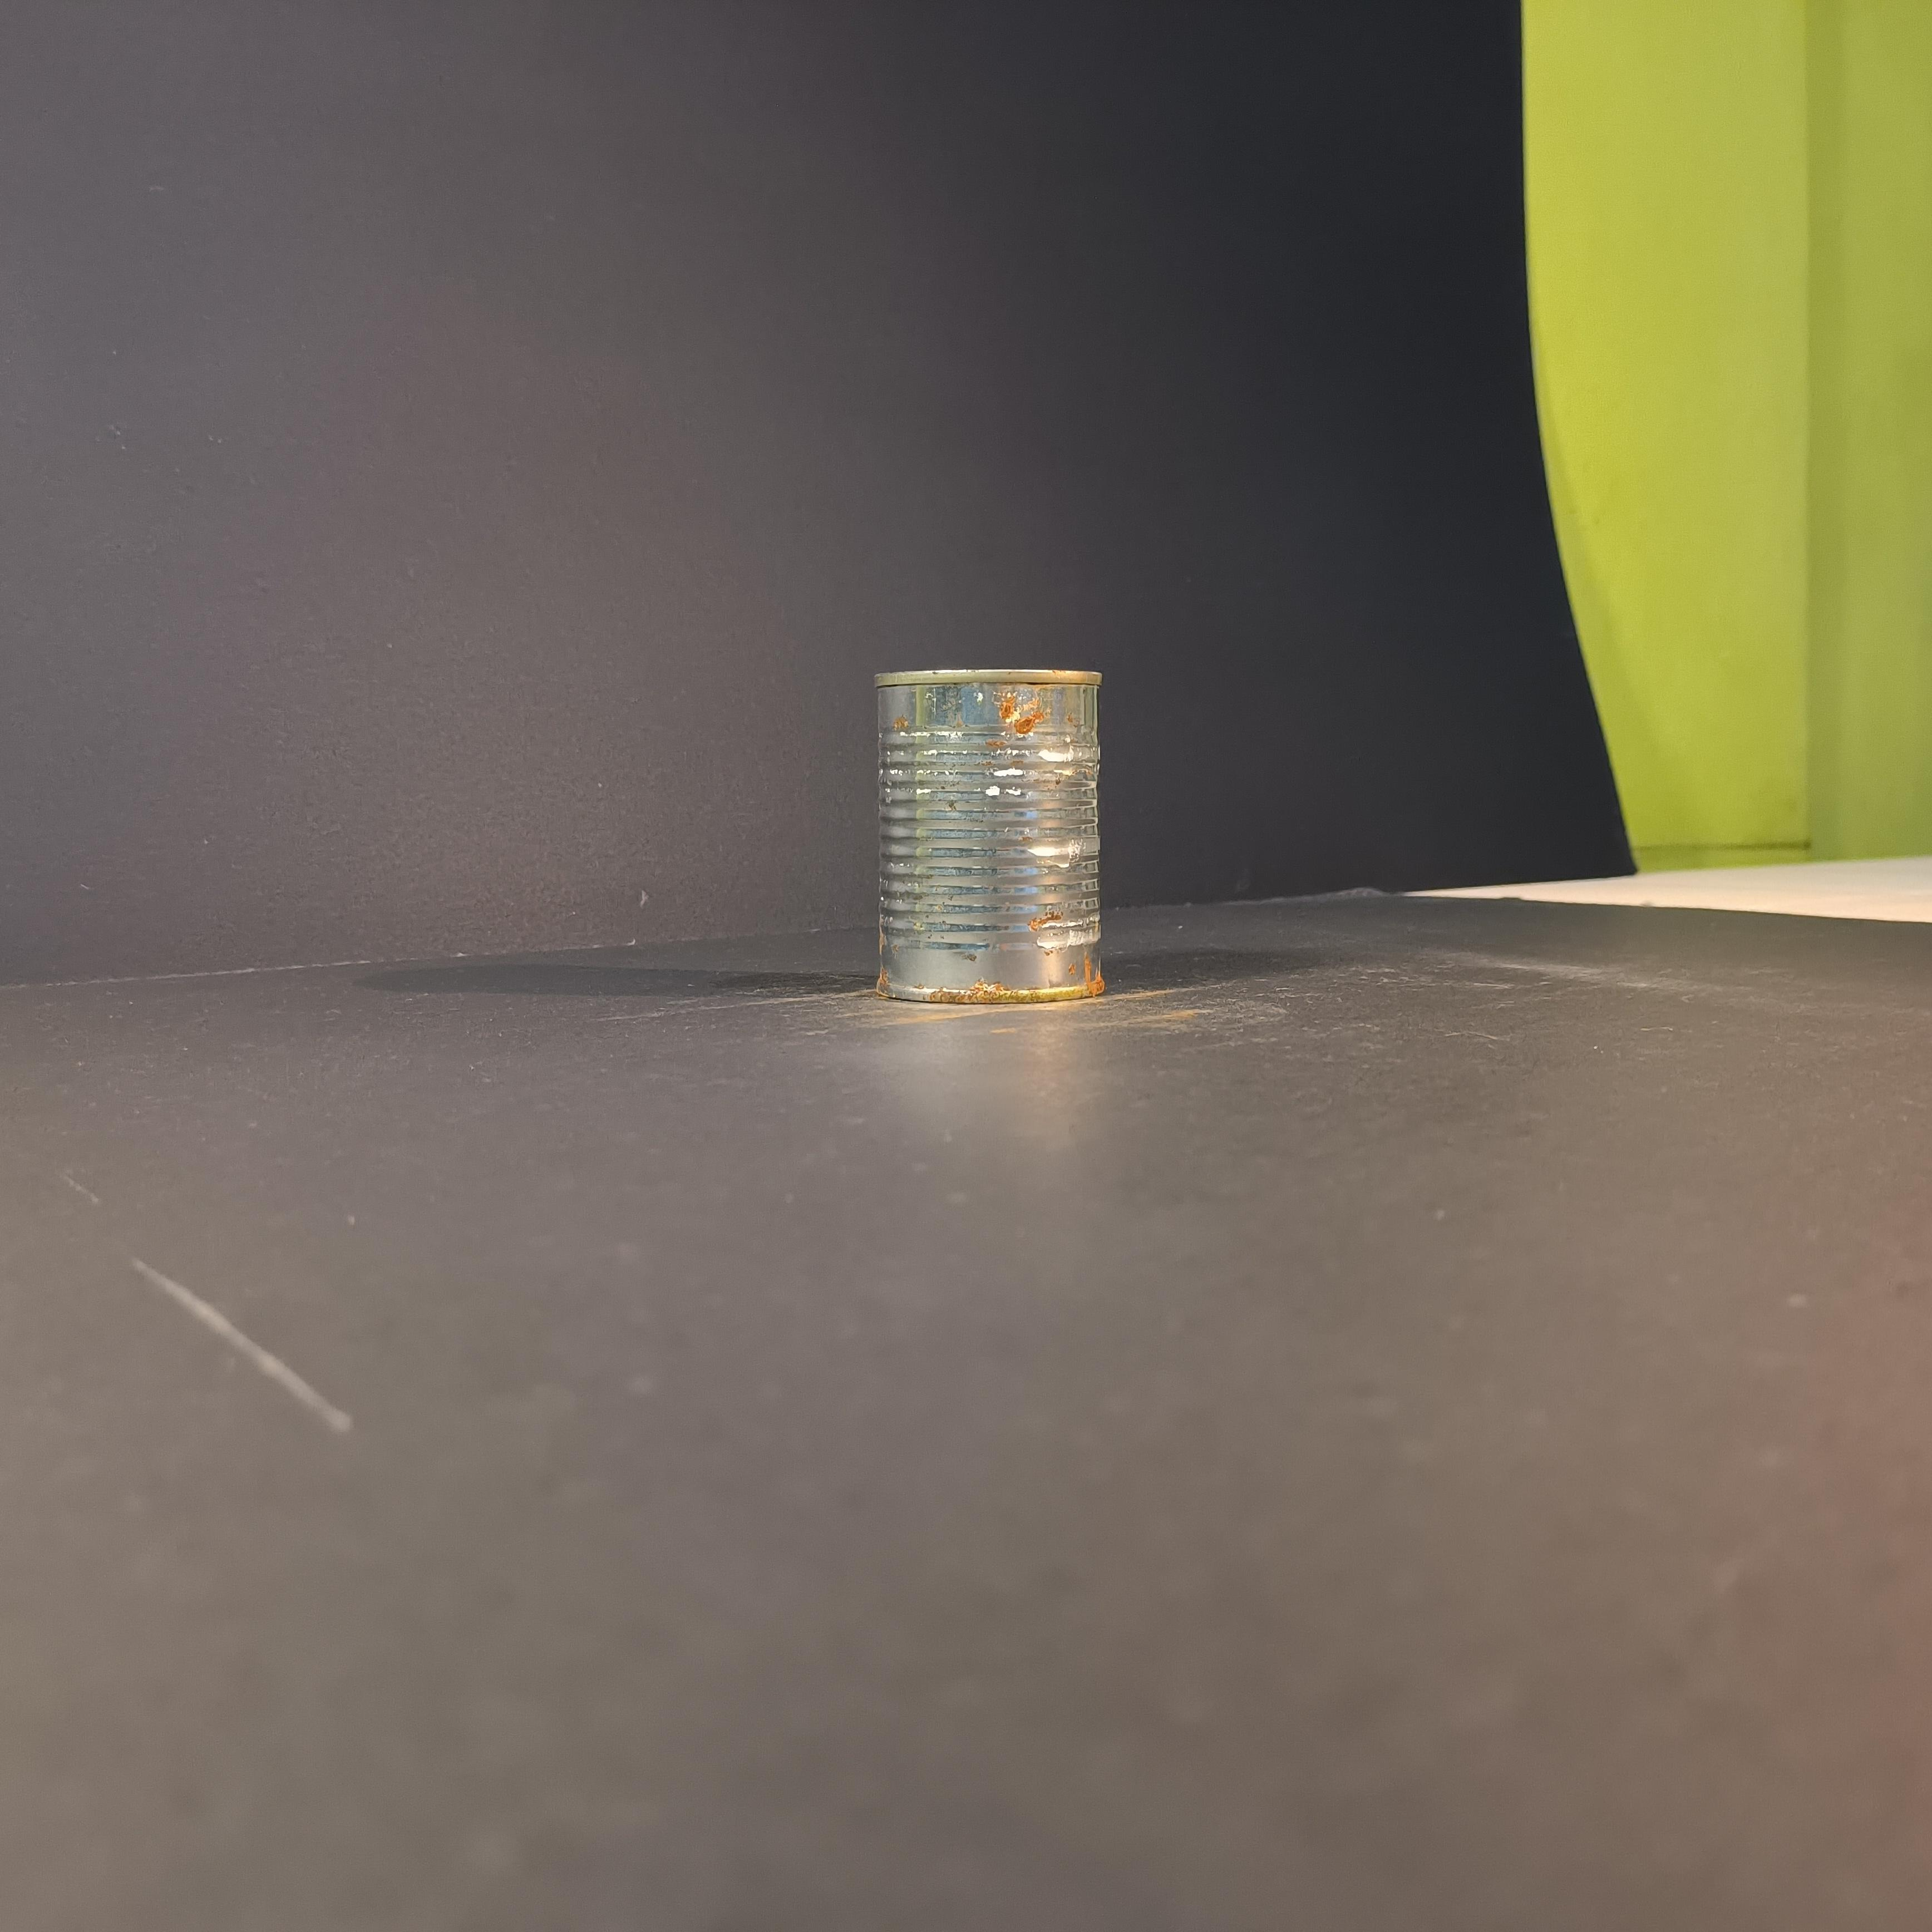Rusted: (851, 640, 1123, 1024)
